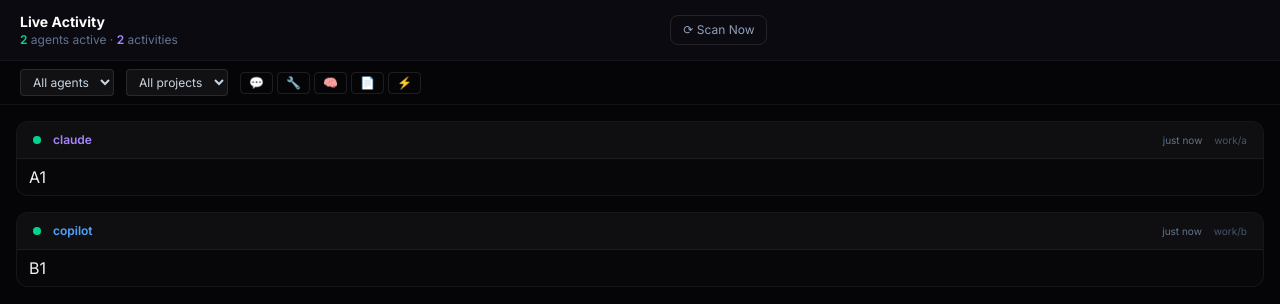
Test: LiveActivityView — filters › filters by project
Select "work/a" in the 2nd dropdown at [177, 82], box [126,69,228,96]
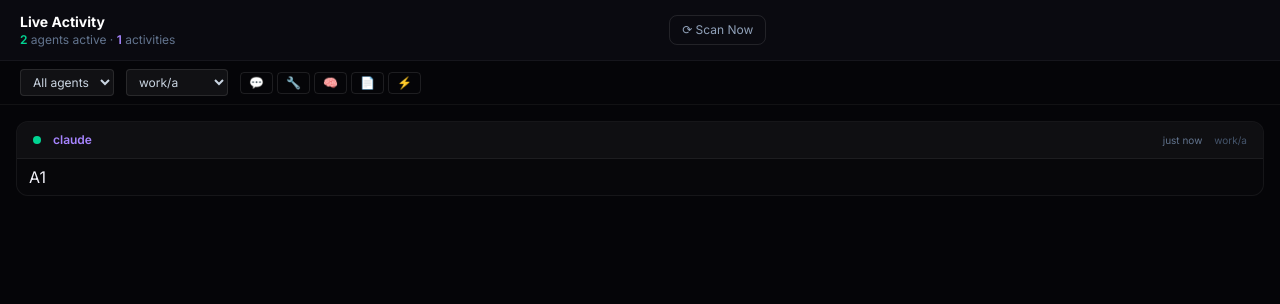
Expected: the text "A1" is shown, [29,167,46,187]
Expected: the text "B1" is gone
